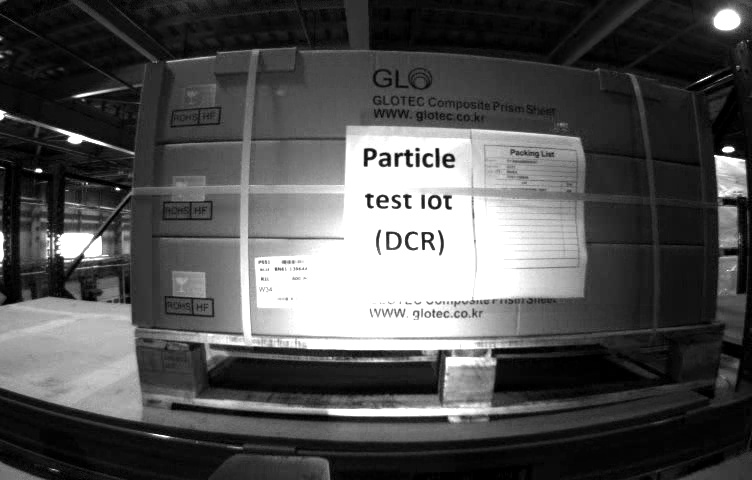True Barcode: (253, 257, 314, 306)
